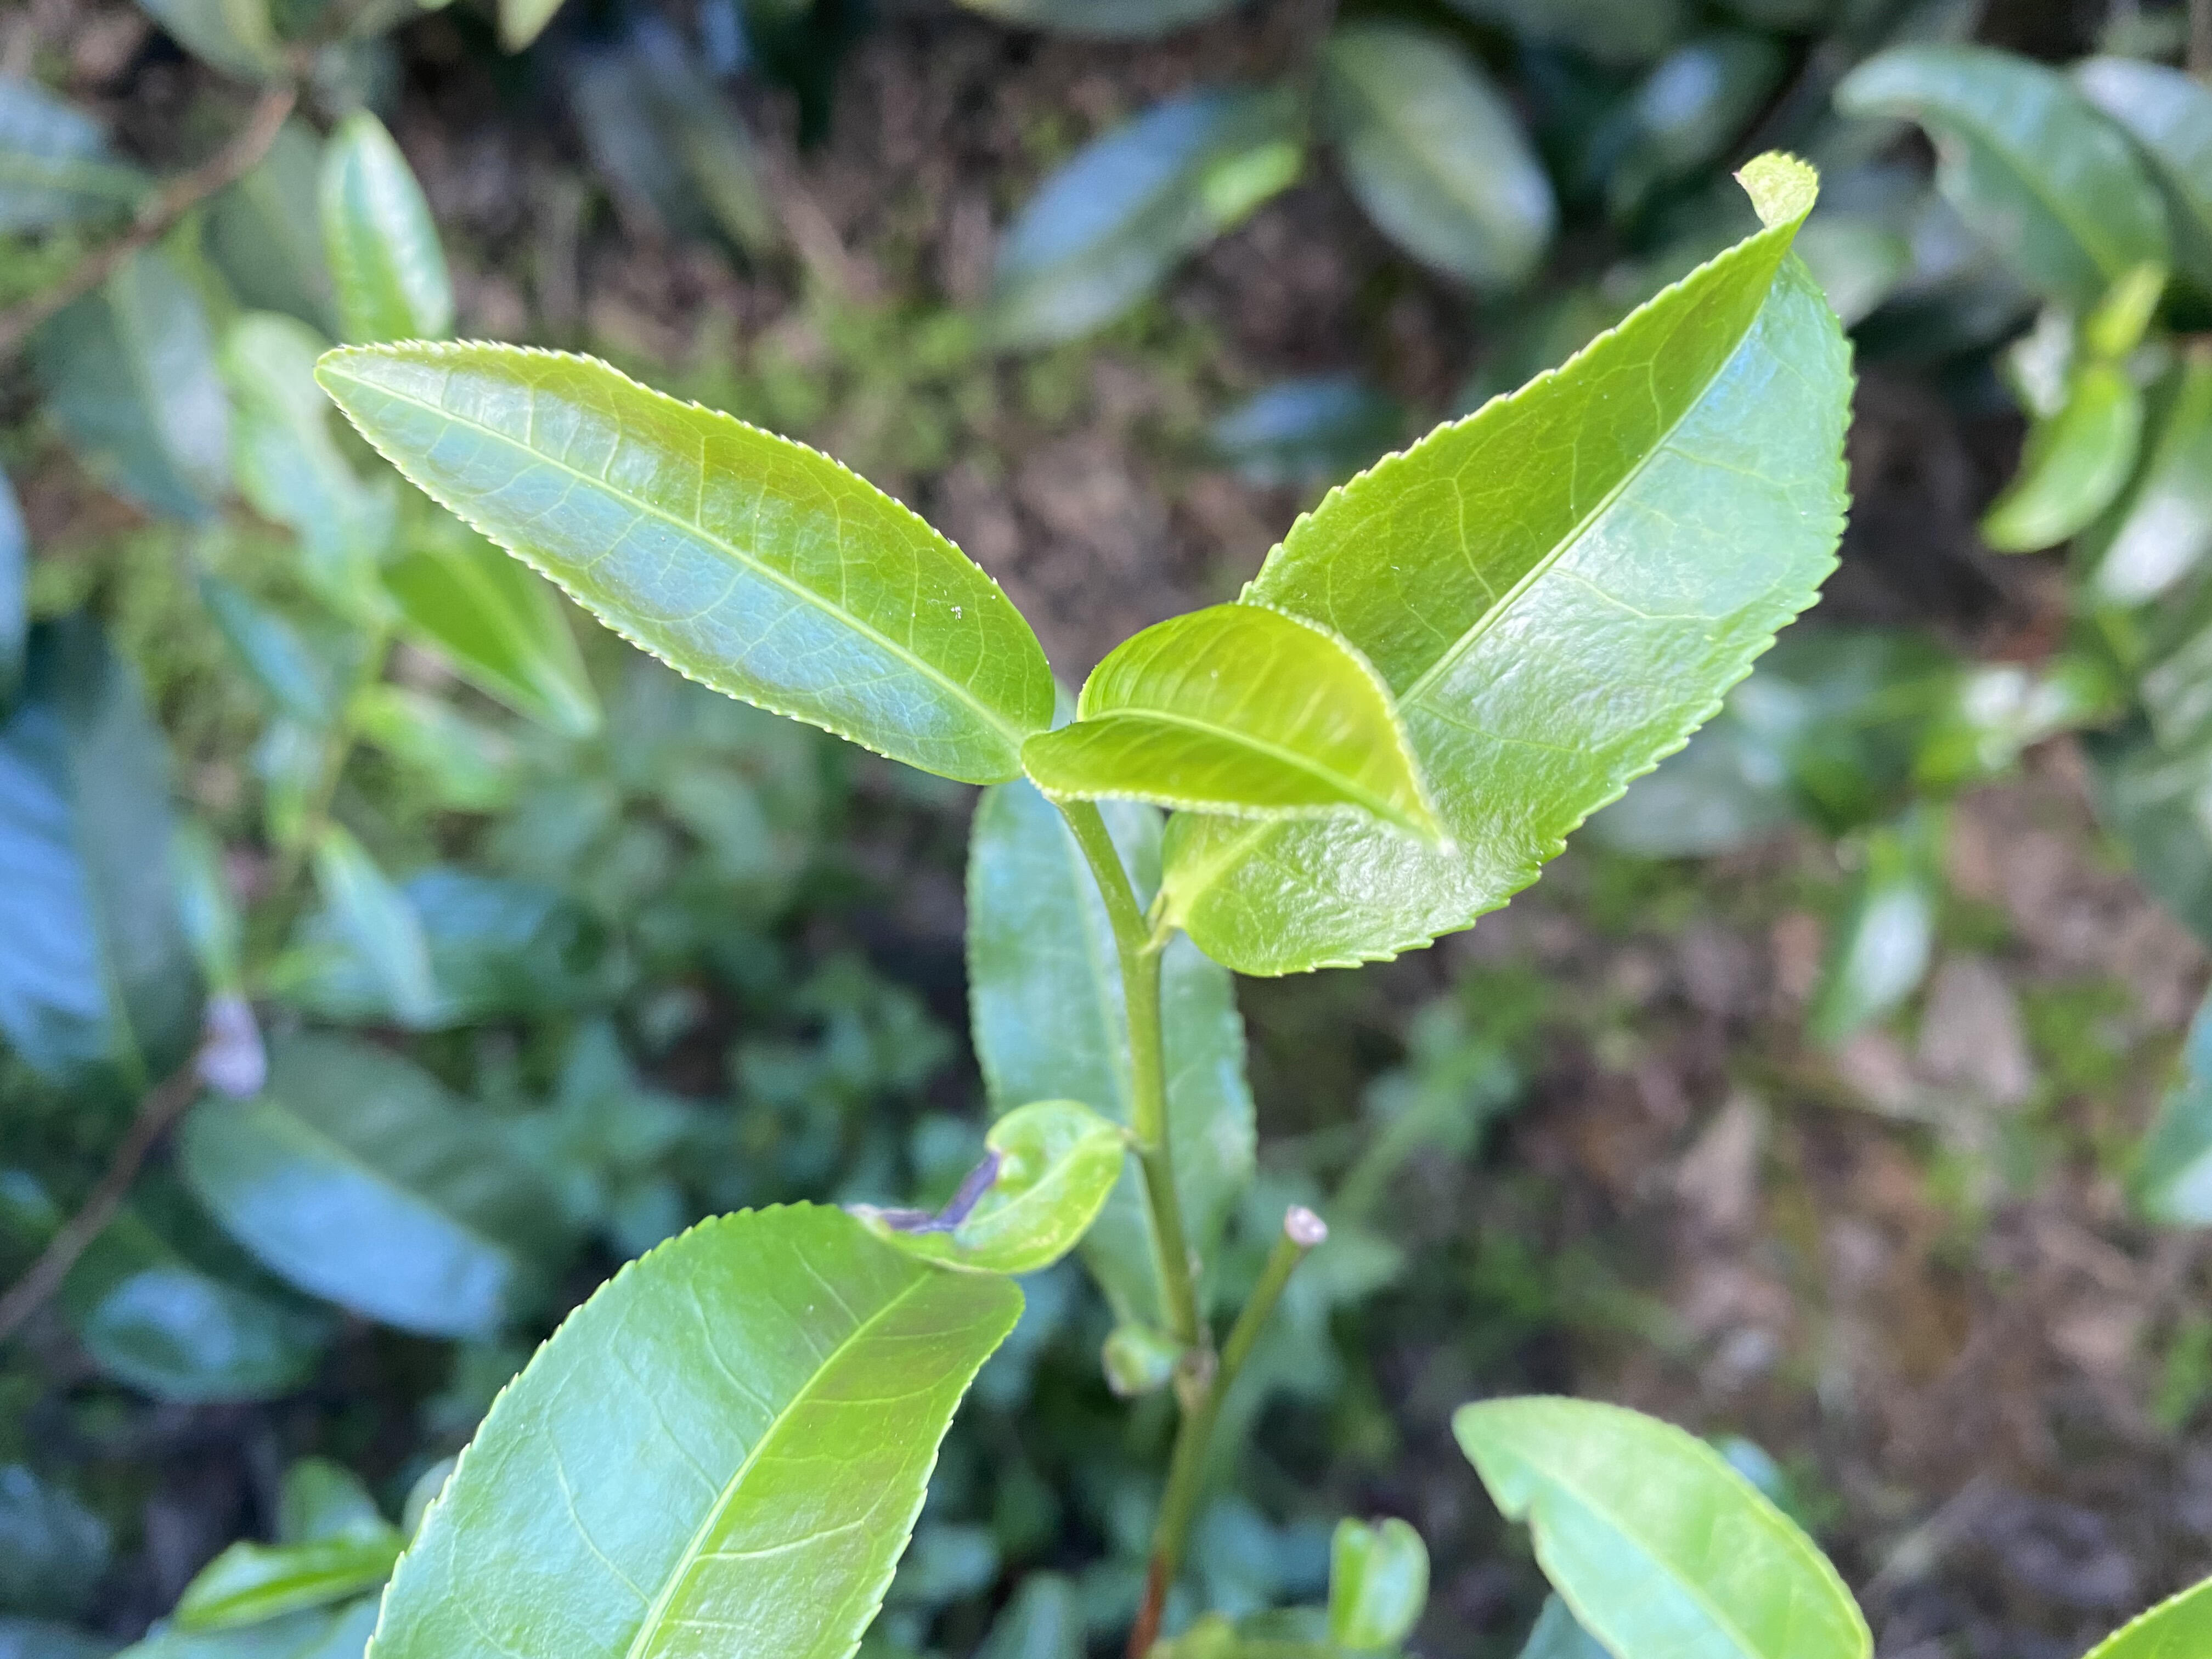healthy: (1158, 146, 1860, 983), (310, 335, 1057, 789), (1021, 603, 1453, 852)
tanju_high: (853, 1096, 1125, 1274)
